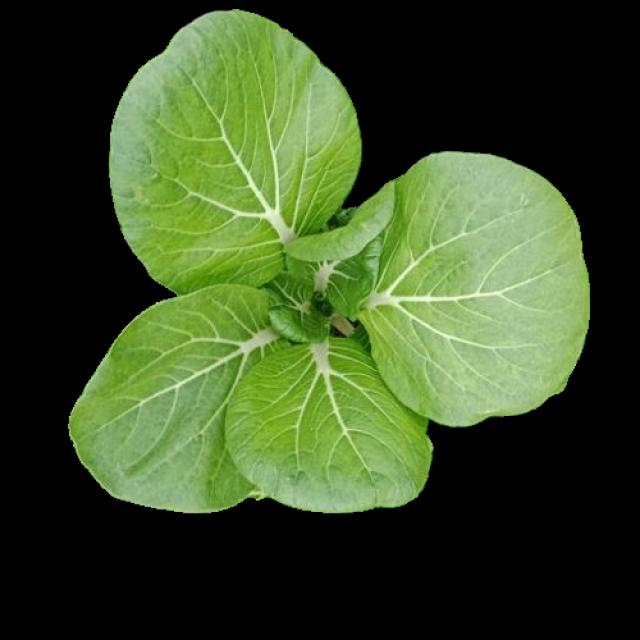healthy: (69, 7, 580, 500)
mature: (73, 9, 584, 502)
